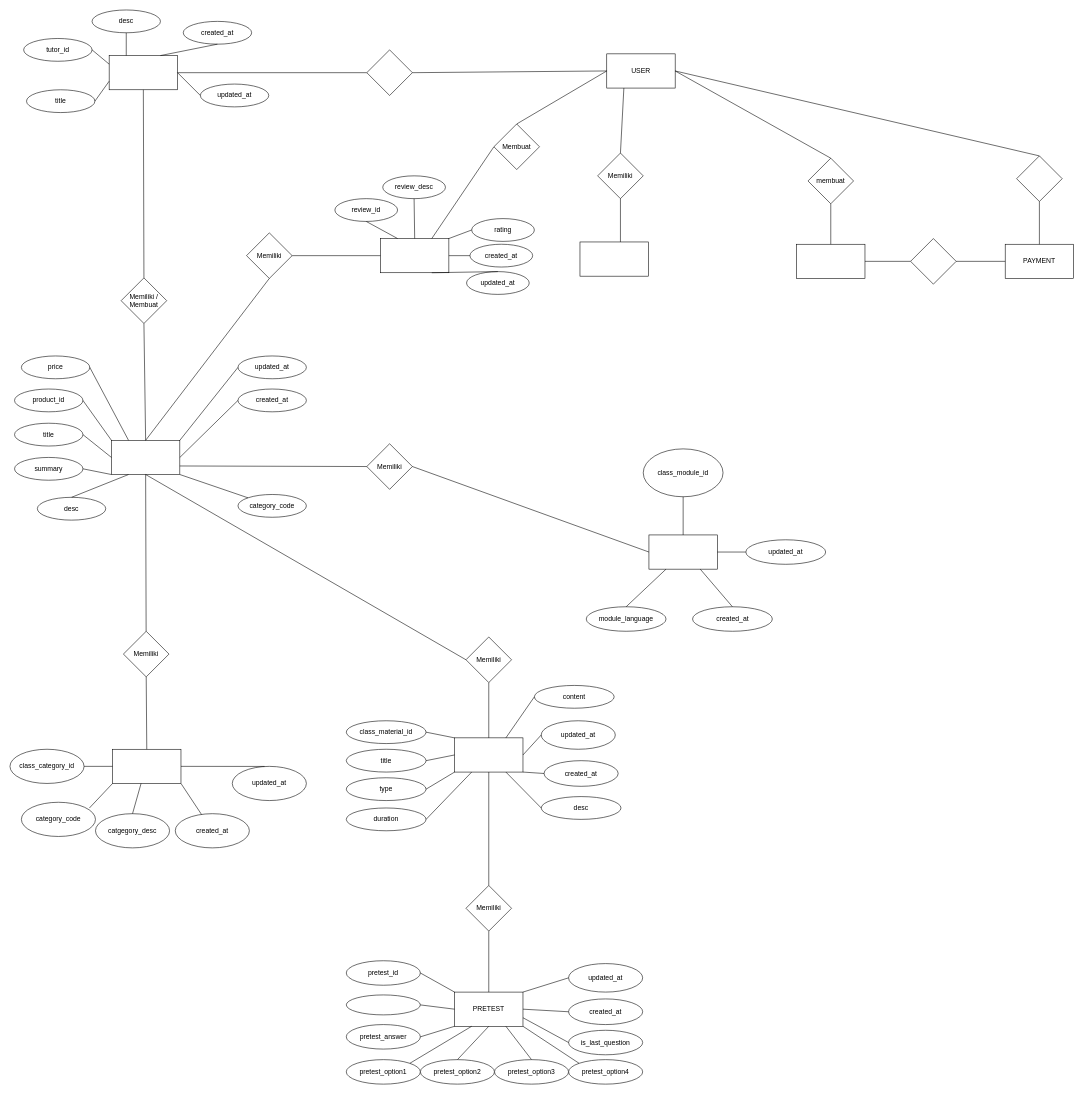
The diagram is 1084 pixels wide and 1094 high, and some of its shapes have lost their labels. Each missing label, with the box of its shape:
Berisi-kan: (910, 238, 956, 284)
CLASS: (579, 241, 648, 276)
CLASS_CATEGORY: (112, 749, 181, 783)
CLASS_MATERIAL: (454, 737, 523, 772)
CLASS_MODULE: (648, 534, 717, 569)
melakukan: (1016, 155, 1062, 201)
Mendaftar: (366, 49, 412, 95)
ORDER: (796, 244, 865, 278)
pretest_question: (346, 994, 420, 1015)
PRODUCT: (111, 440, 180, 475)
REVIEW: (380, 238, 449, 273)
TUTOR: (109, 55, 178, 90)
